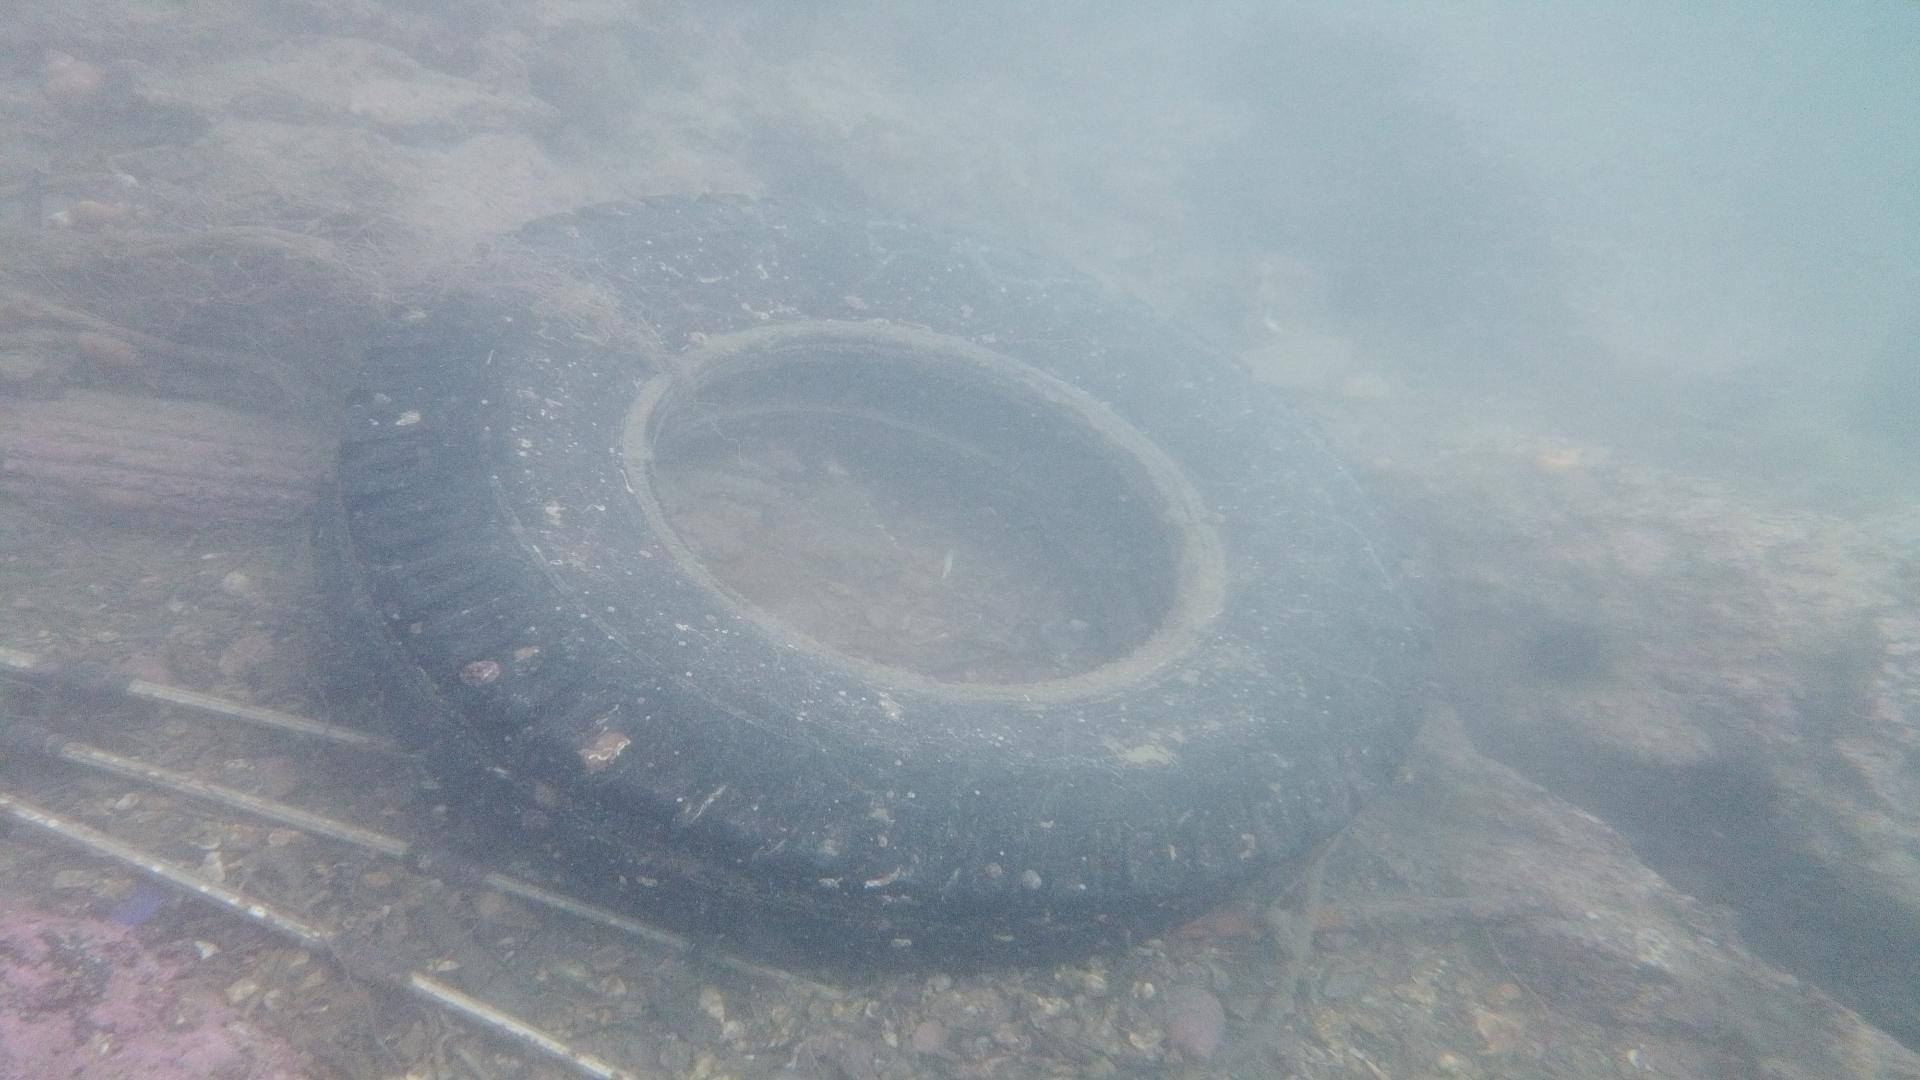tire: (335, 189, 1443, 971)
